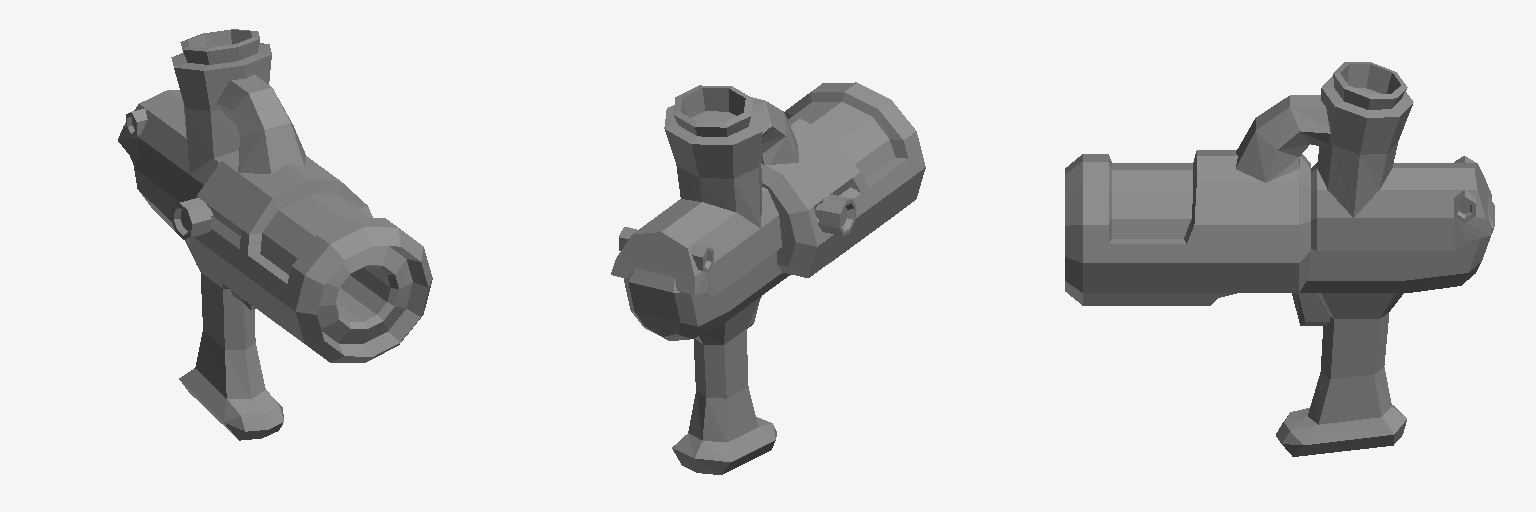
File: blaster.obj
The picture shows the model from 3 angles: view 1: azimuth 30°, elevation 25°; view 2: azimuth 150°, elevation 25°; view 3: azimuth 270°, elevation 25°; orthographic projection.
Visible parts, largest first — view 1: Mesh0; view 2: Mesh0; view 3: Mesh0.
Part boxes in pixels (x1,y1,x2,y2): Mesh0: (118, 29, 432, 440); Mesh0: (611, 82, 925, 474); Mesh0: (1065, 62, 1494, 456).
Size of the model in its own units: 10.62 by 24.35 by 25.25.